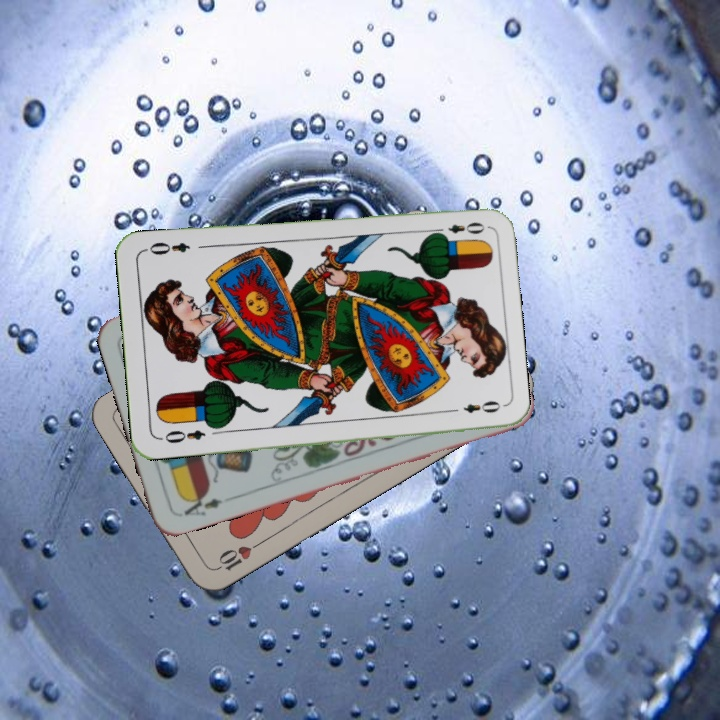EA: (179, 490, 233, 519)
EO: (429, 218, 488, 240), (156, 426, 208, 446)
H10: (210, 538, 264, 574)
